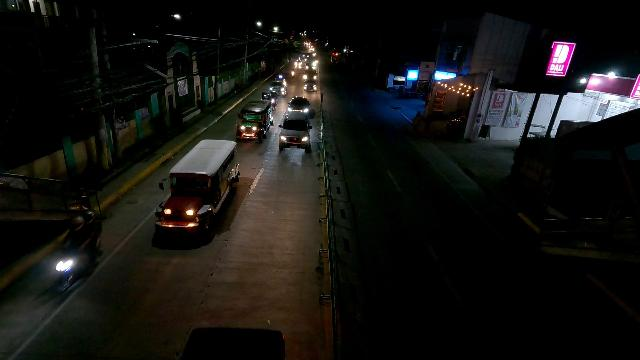car: (277, 116, 314, 151), (287, 97, 310, 115), (270, 78, 288, 98), (303, 71, 318, 83), (304, 79, 317, 92)
jeepney: (152, 138, 239, 232), (232, 99, 273, 140)
